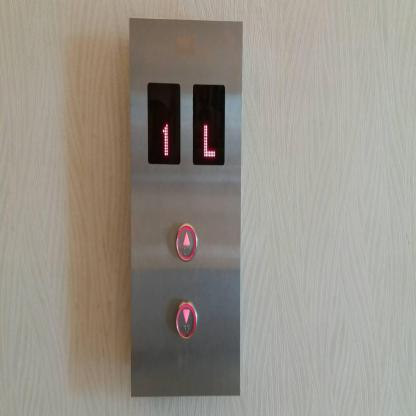down: (174, 299, 198, 341)
led: (189, 80, 227, 172), (144, 78, 182, 169)
up: (174, 220, 198, 263)
